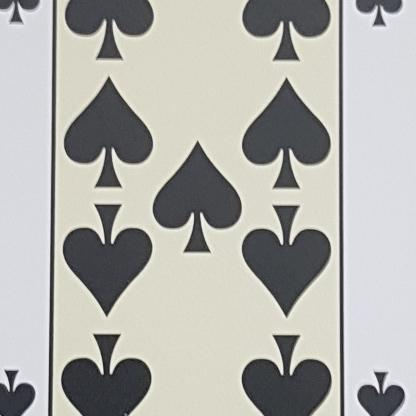9s: (343, 0, 415, 58), (350, 356, 415, 415), (0, 0, 58, 52)
